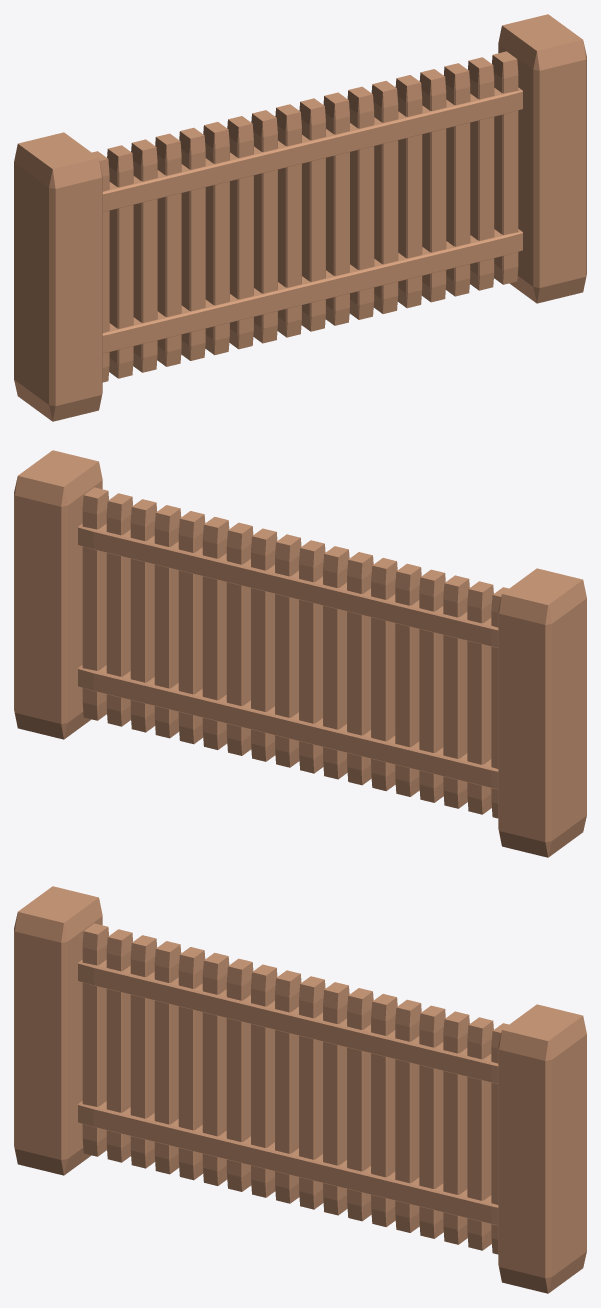
The model's file is b19_cantilever_security_slide_gate.glb.
3 views of the same model, one above another, from view 1: azimuth 30°, elevation 25°; view 2: azimuth 150°, elevation 25°; view 3: azimuth 330°, elevation 25° (orthographic).
Visible parts, largest first — view 1: b19_cantilever_security_slide_gate; view 2: b19_cantilever_security_slide_gate; view 3: b19_cantilever_security_slide_gate.
Part boxes in pixels (box(x1,y1,x2,y2)): b19_cantilever_security_slide_gate: box(14, 14, 586, 421); b19_cantilever_security_slide_gate: box(14, 450, 586, 857); b19_cantilever_security_slide_gate: box(14, 886, 586, 1293).
Size of the model in its own units: 4.81 by 2.16 by 0.63.
